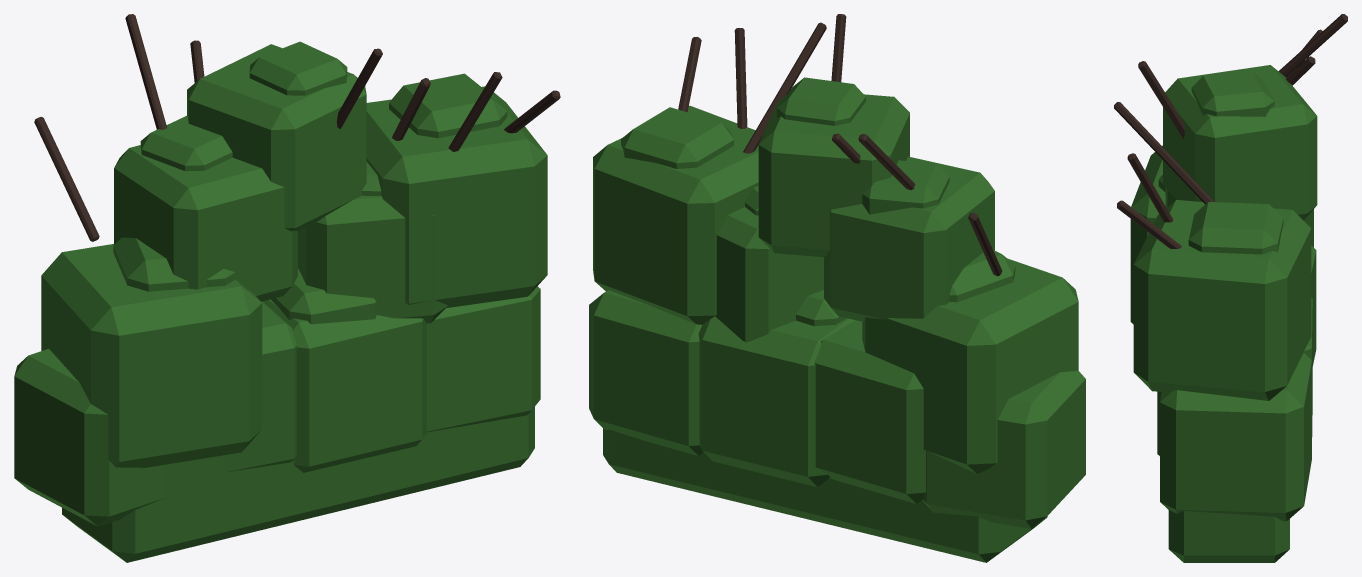
File: Hedge2.fbx
The picture shows the model from 3 angles, left to right: view 1: azimuth 30°, elevation 25°; view 2: azimuth 150°, elevation 25°; view 3: azimuth 270°, elevation 25°; orthographic projection. The views are drawn at different scales.
Visible parts, largest first — view 1: Hedge, Twig; view 2: Hedge, Twig; view 3: Hedge, Twig.
Part boxes in pixels (x1,y1,x2,y2): Hedge: (14, 41, 547, 562); Twig: (34, 14, 560, 241); Hedge: (589, 77, 1085, 562); Twig: (678, 14, 1002, 276); Hedge: (1130, 65, 1317, 562); Twig: (1114, 14, 1347, 248).
Bounding box in the file's own units: 13.38 × 12.46 × 6.17.
